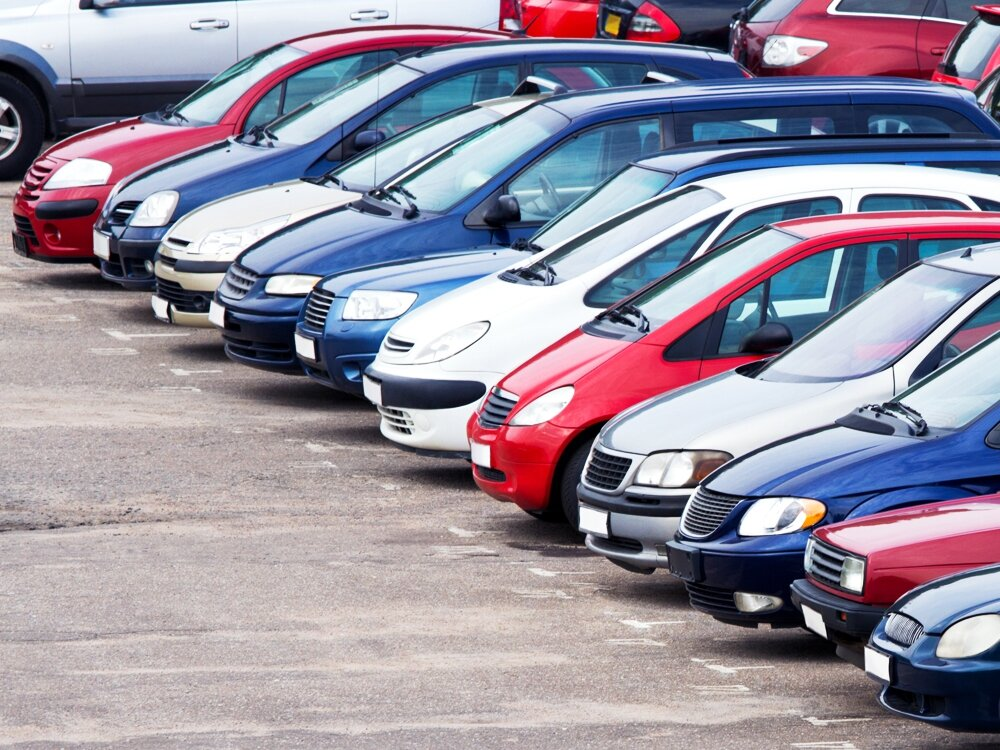Car: (212, 79, 1000, 373), (363, 165, 1000, 459), (294, 137, 1000, 396), (468, 212, 1000, 528), (93, 39, 748, 289), (578, 243, 1000, 574), (12, 25, 513, 264), (151, 77, 563, 328), (0, 0, 528, 181), (668, 345, 1000, 628), (791, 493, 1000, 665), (863, 565, 1000, 734), (729, 0, 1000, 79), (596, 0, 752, 50), (933, 5, 1000, 90), (521, 0, 600, 38), (976, 69, 1000, 124)
